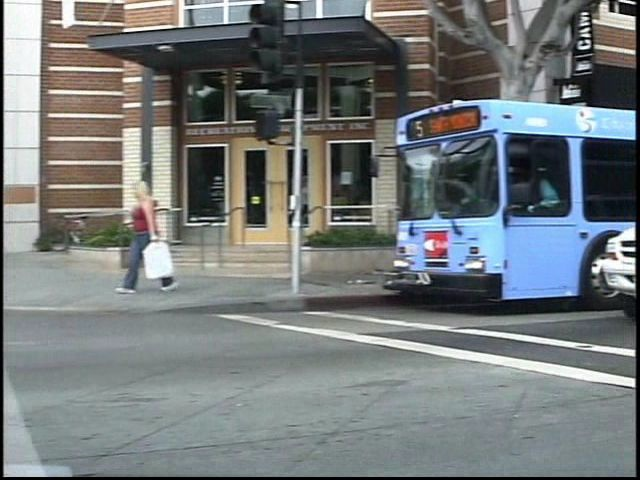person: (126, 178, 183, 301)
